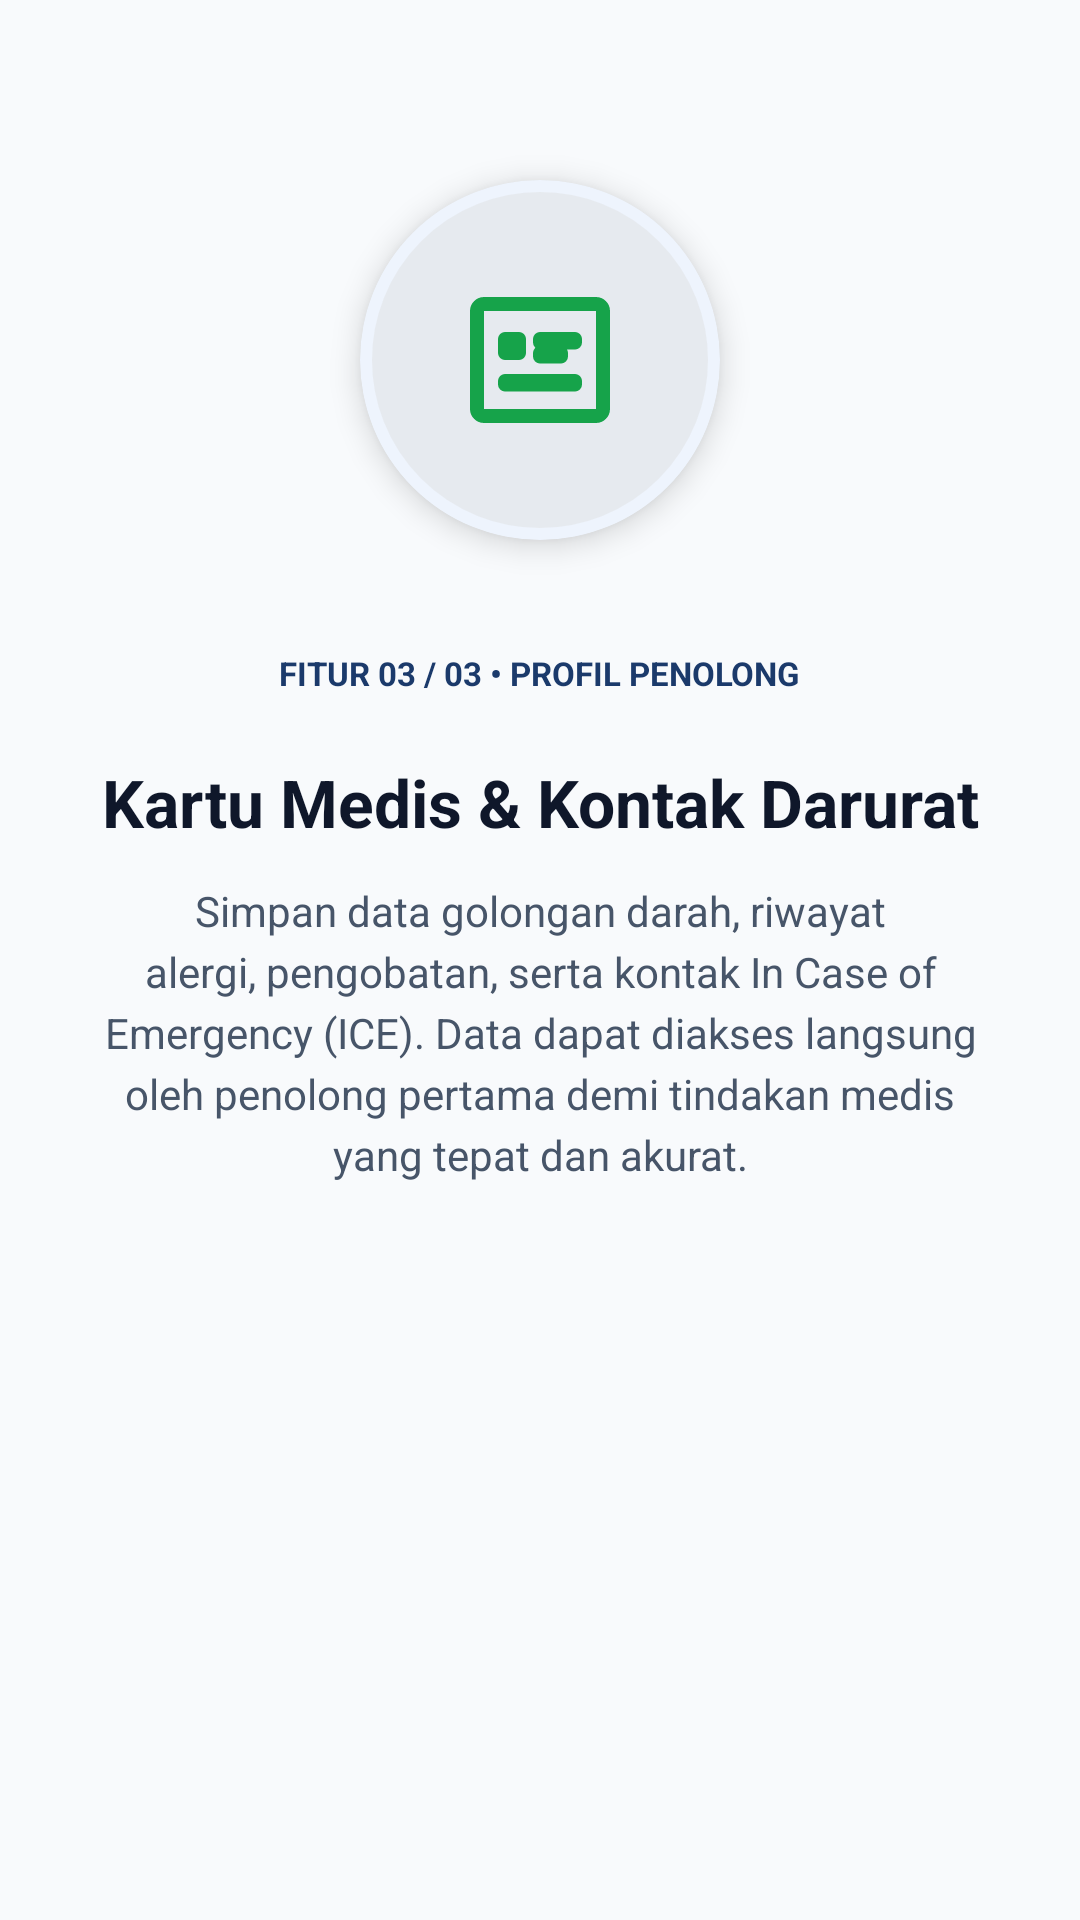

Icons on this 1080 × 1920 Android screen, each with the point to tap as (x=x, y=y):
Kartu Medis: (x=540, y=360)
